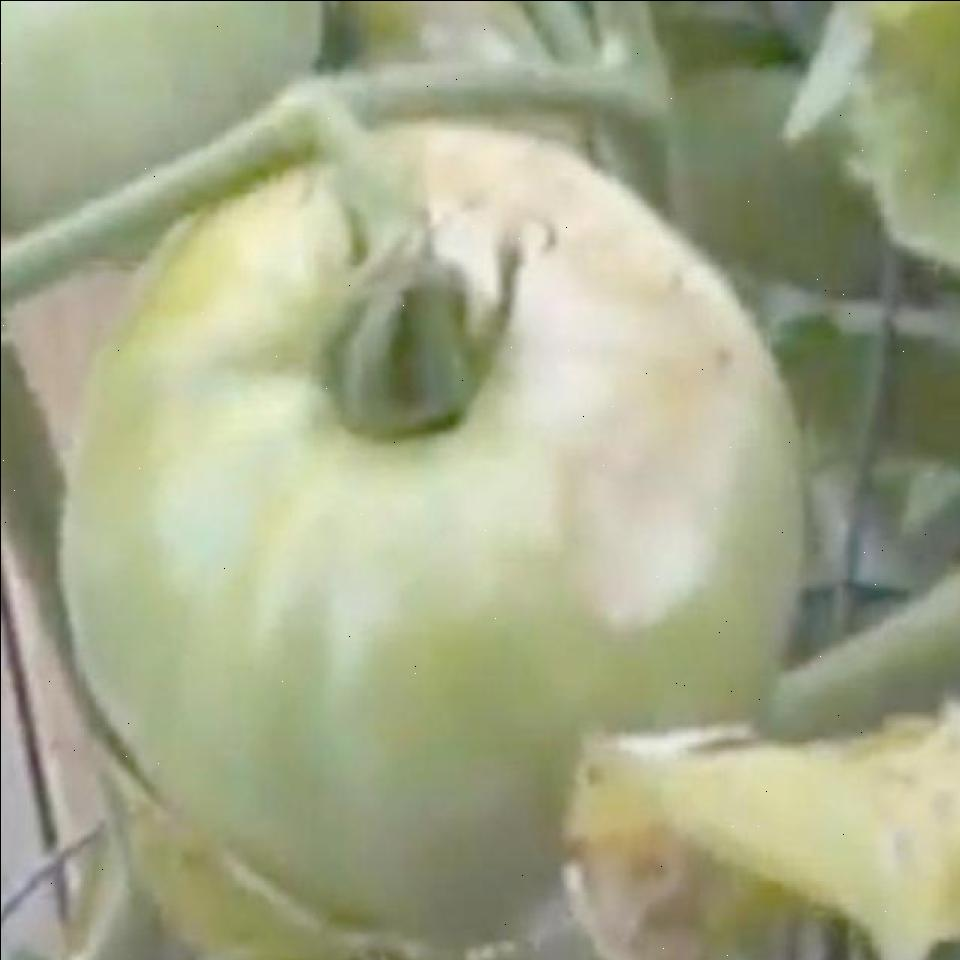Sunscald: (433, 135, 770, 680)
